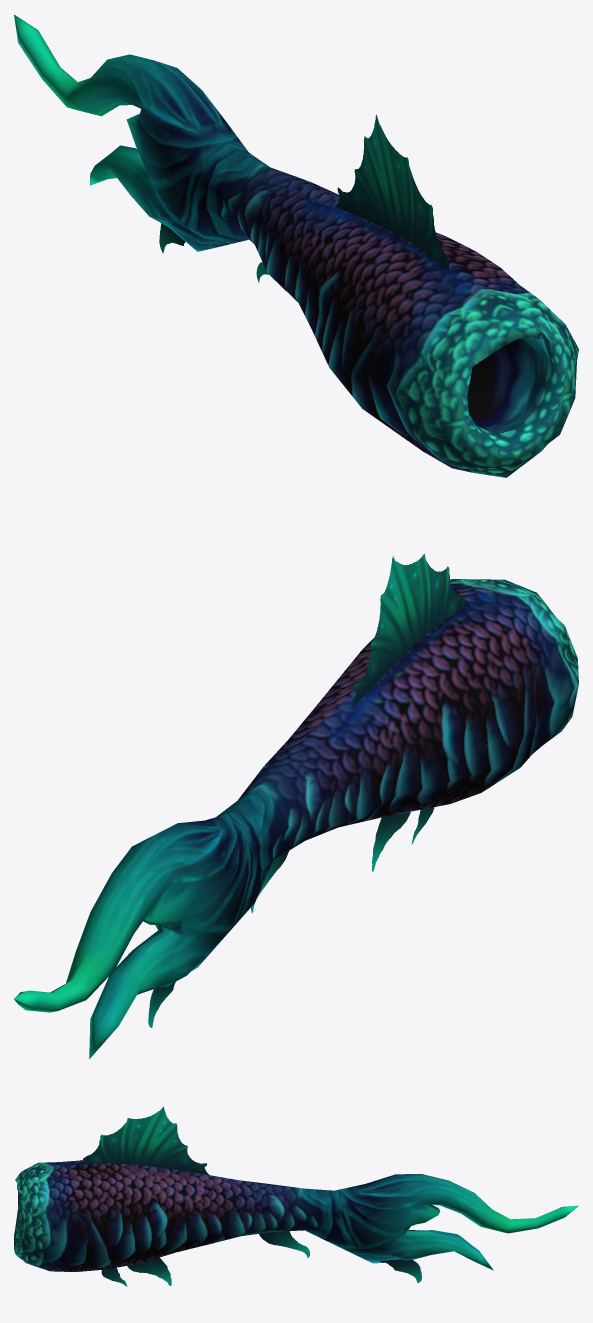
Rendered from SchoolFish_Mesh.fbx.
3 renders of one model, top to bottom at view 1: azimuth 30°, elevation 25°; view 2: azimuth 150°, elevation 25°; view 3: azimuth 270°, elevation 25°, orthographic. The views are drawn at different scales.
Parts seen in each view (by area): view 1: SchoolFish_Mesh; view 2: SchoolFish_Mesh; view 3: SchoolFish_Mesh.
Part boxes in pixels (<box>): SchoolFish_Mesh: <box>14,14,578,477</box>; SchoolFish_Mesh: <box>14,554,578,1058</box>; SchoolFish_Mesh: <box>14,1106,578,1286</box>.
Size of the model in its own units: 0.00656 by 0.0133 by 0.0313.
